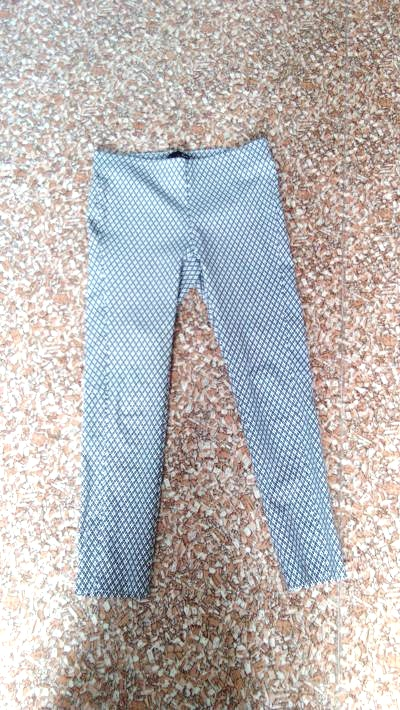Pants: (40, 99, 353, 611)
